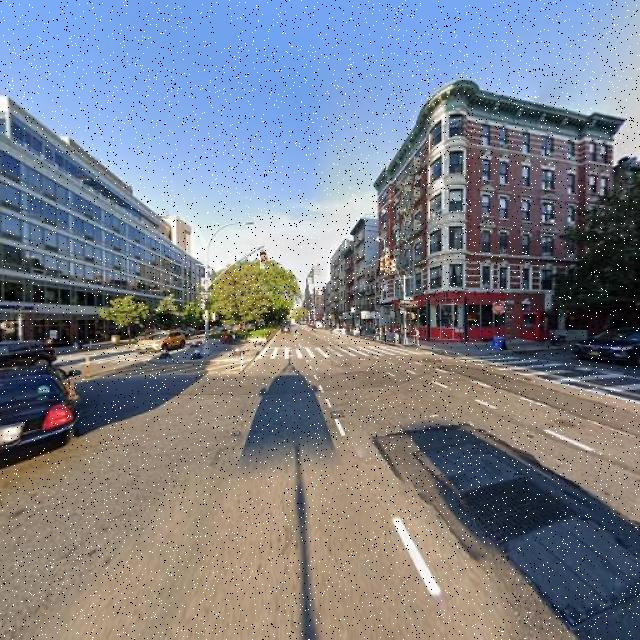Building: (382, 75, 612, 347), (1, 124, 205, 355)
